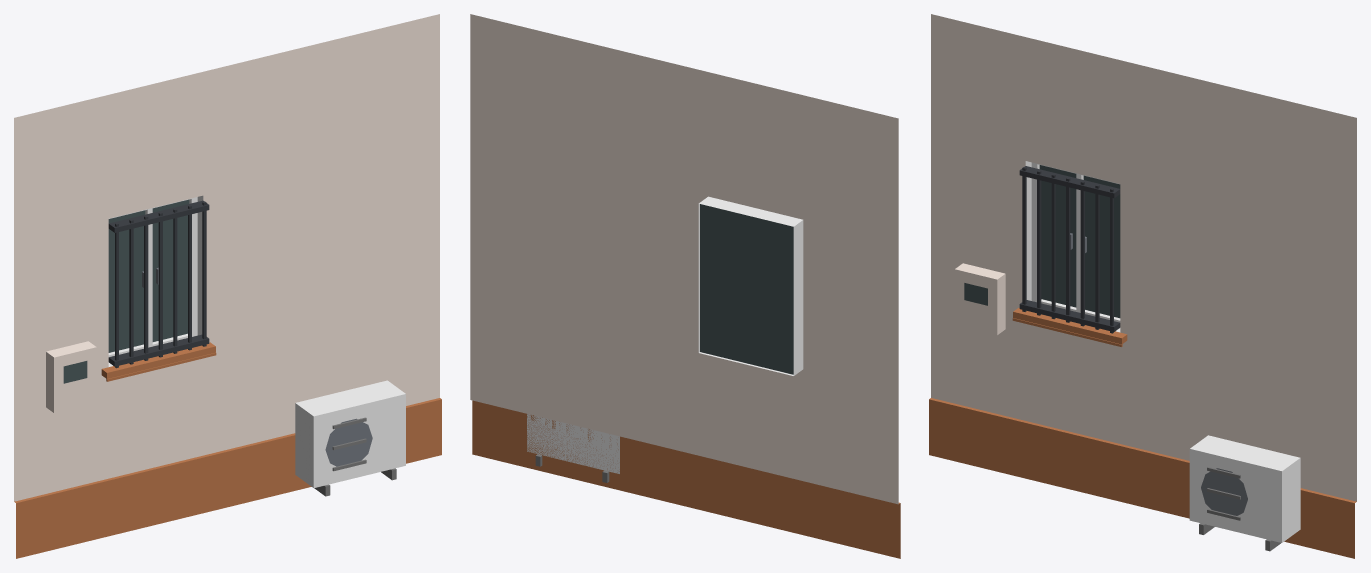
File: base-w2_close.fbx
3 views of the same model, side by side, from view 1: azimuth 30°, elevation 25°; view 2: azimuth 150°, elevation 25°; view 3: azimuth 330°, elevation 25° (orthographic).
Parts seen in each view (by area): view 1: a2000s2/200/base-w2_close; view 2: a2000s2/200/base-w2_close; view 3: a2000s2/200/base-w2_close.
Boxes of the visible parts, x1,y1,x2,y2 form: a2000s2/200/base-w2_close: (14, 14, 441, 558); a2000s2/200/base-w2_close: (470, 14, 900, 558); a2000s2/200/base-w2_close: (929, 14, 1356, 558).
Size of the model in its own units: 3.6 by 3.55 by 0.46.
